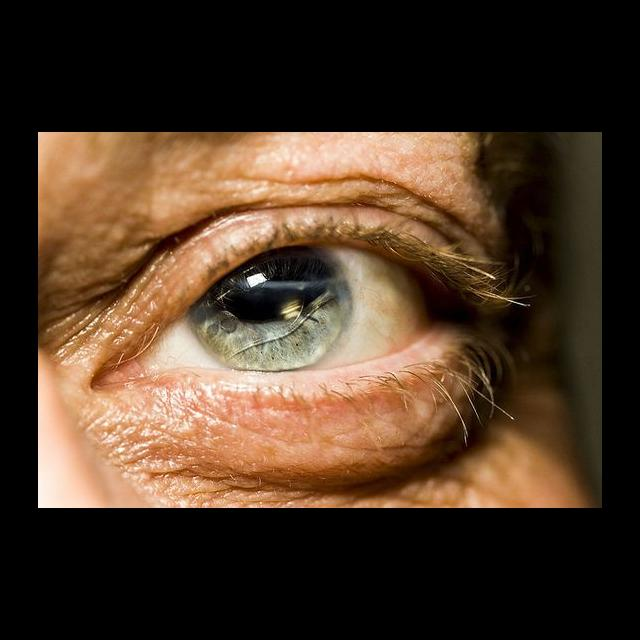eye: (155, 240, 433, 371)
iris: (187, 245, 351, 367)
